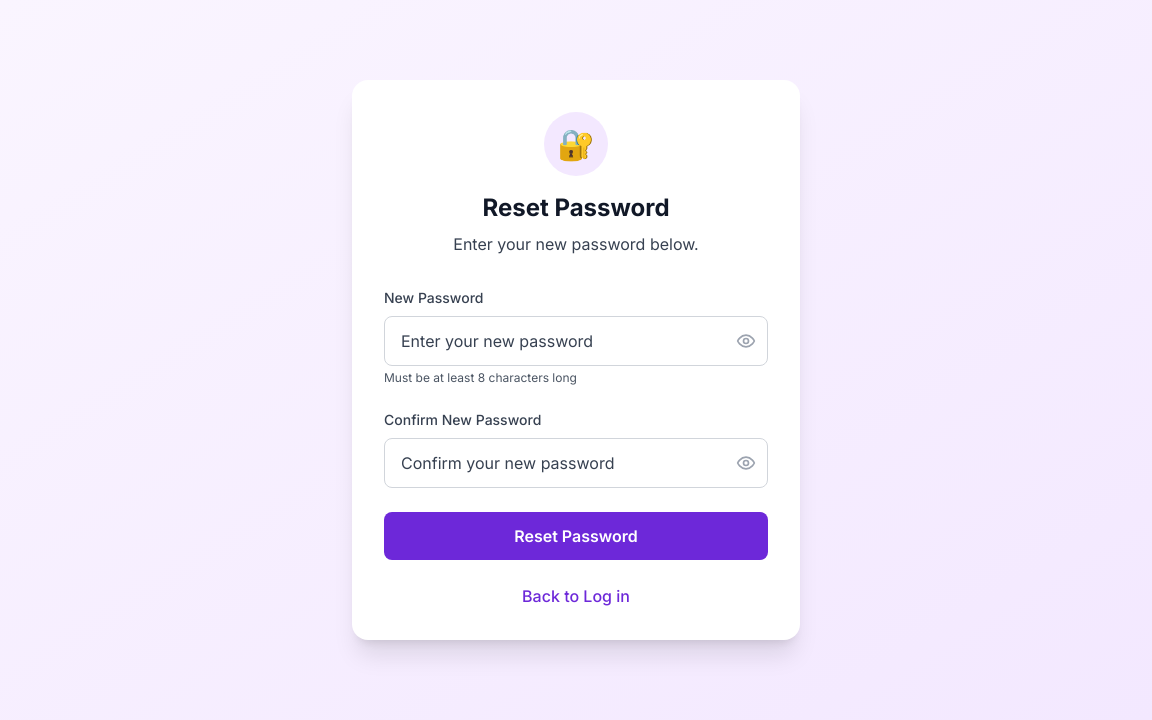
Test case: Reset Password Validation › shows network error in banner
The width and height of the screenshot is (1152, 720).
Expected: the button with test id "reset-submit" is enabled, [384, 512, 768, 560]
Step 1. Type "password123" into the password field labelled "New Password" → {"x": 576, "y": 341}, box [384, 316, 768, 366]
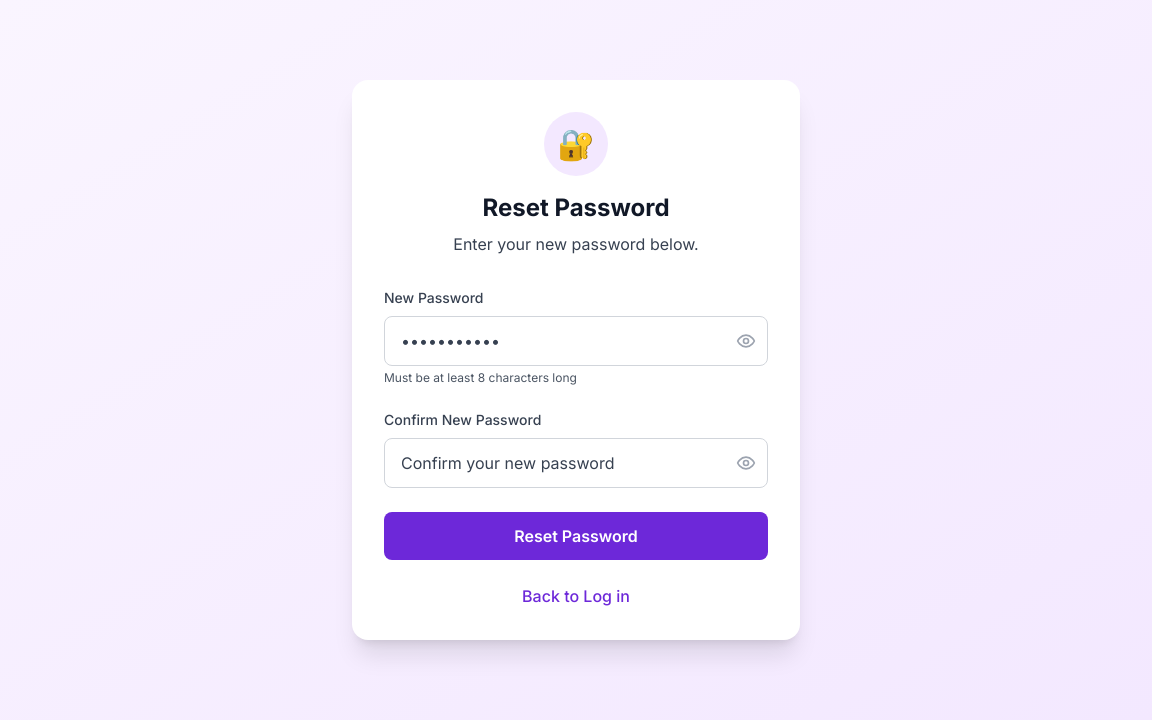
Step 2. Type "password123" into the password field labelled "Confirm New Password" → {"x": 576, "y": 463}, box [384, 438, 768, 488]
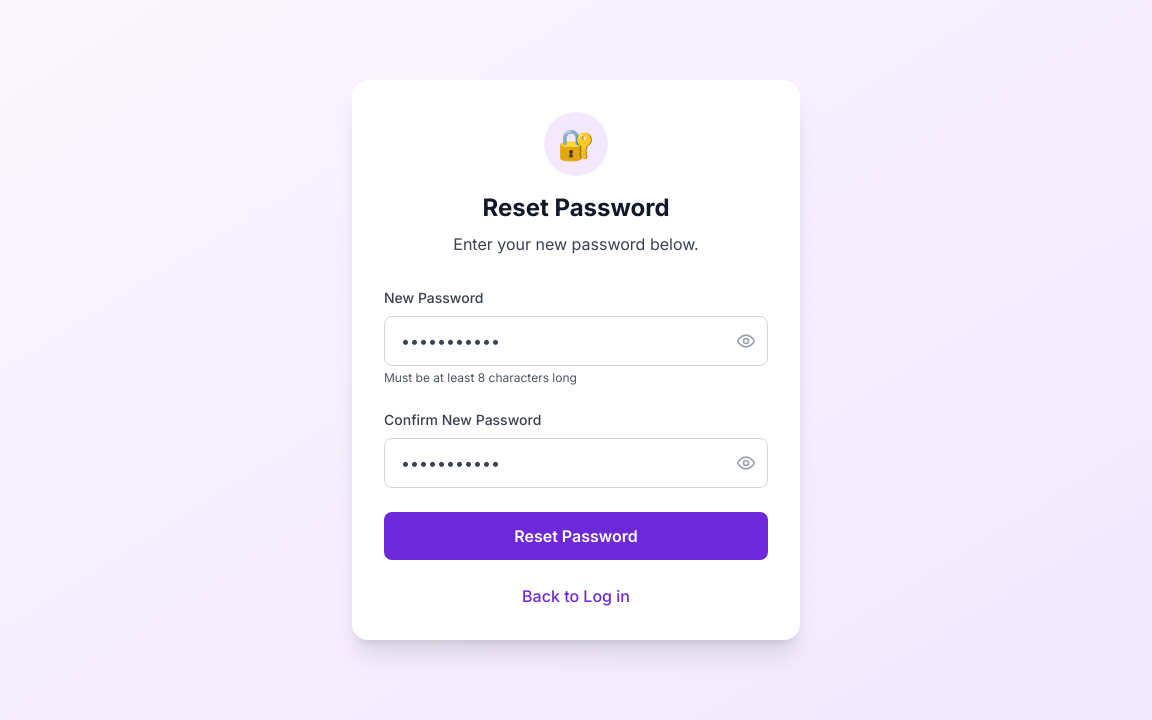
Step 3. Click the button with test id "reset-submit" → {"x": 576, "y": 536}, box [384, 512, 768, 560]
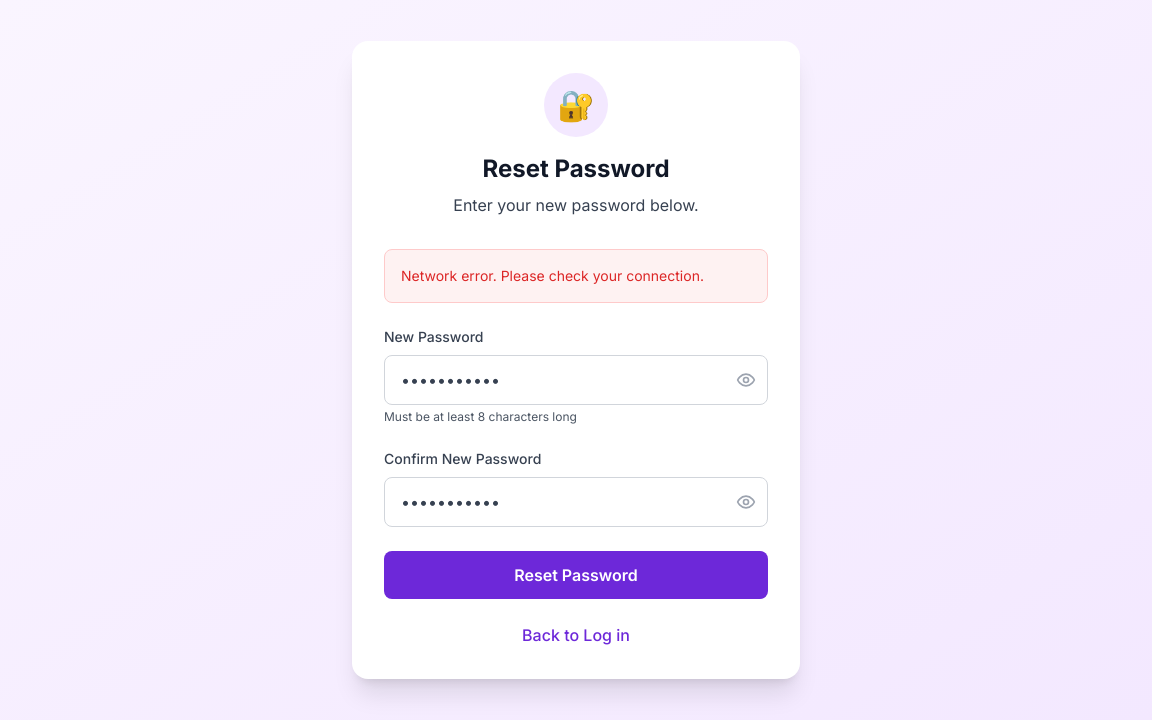
Expected: the text "Network error. Please check your connection." is shown, [401, 266, 751, 286]
